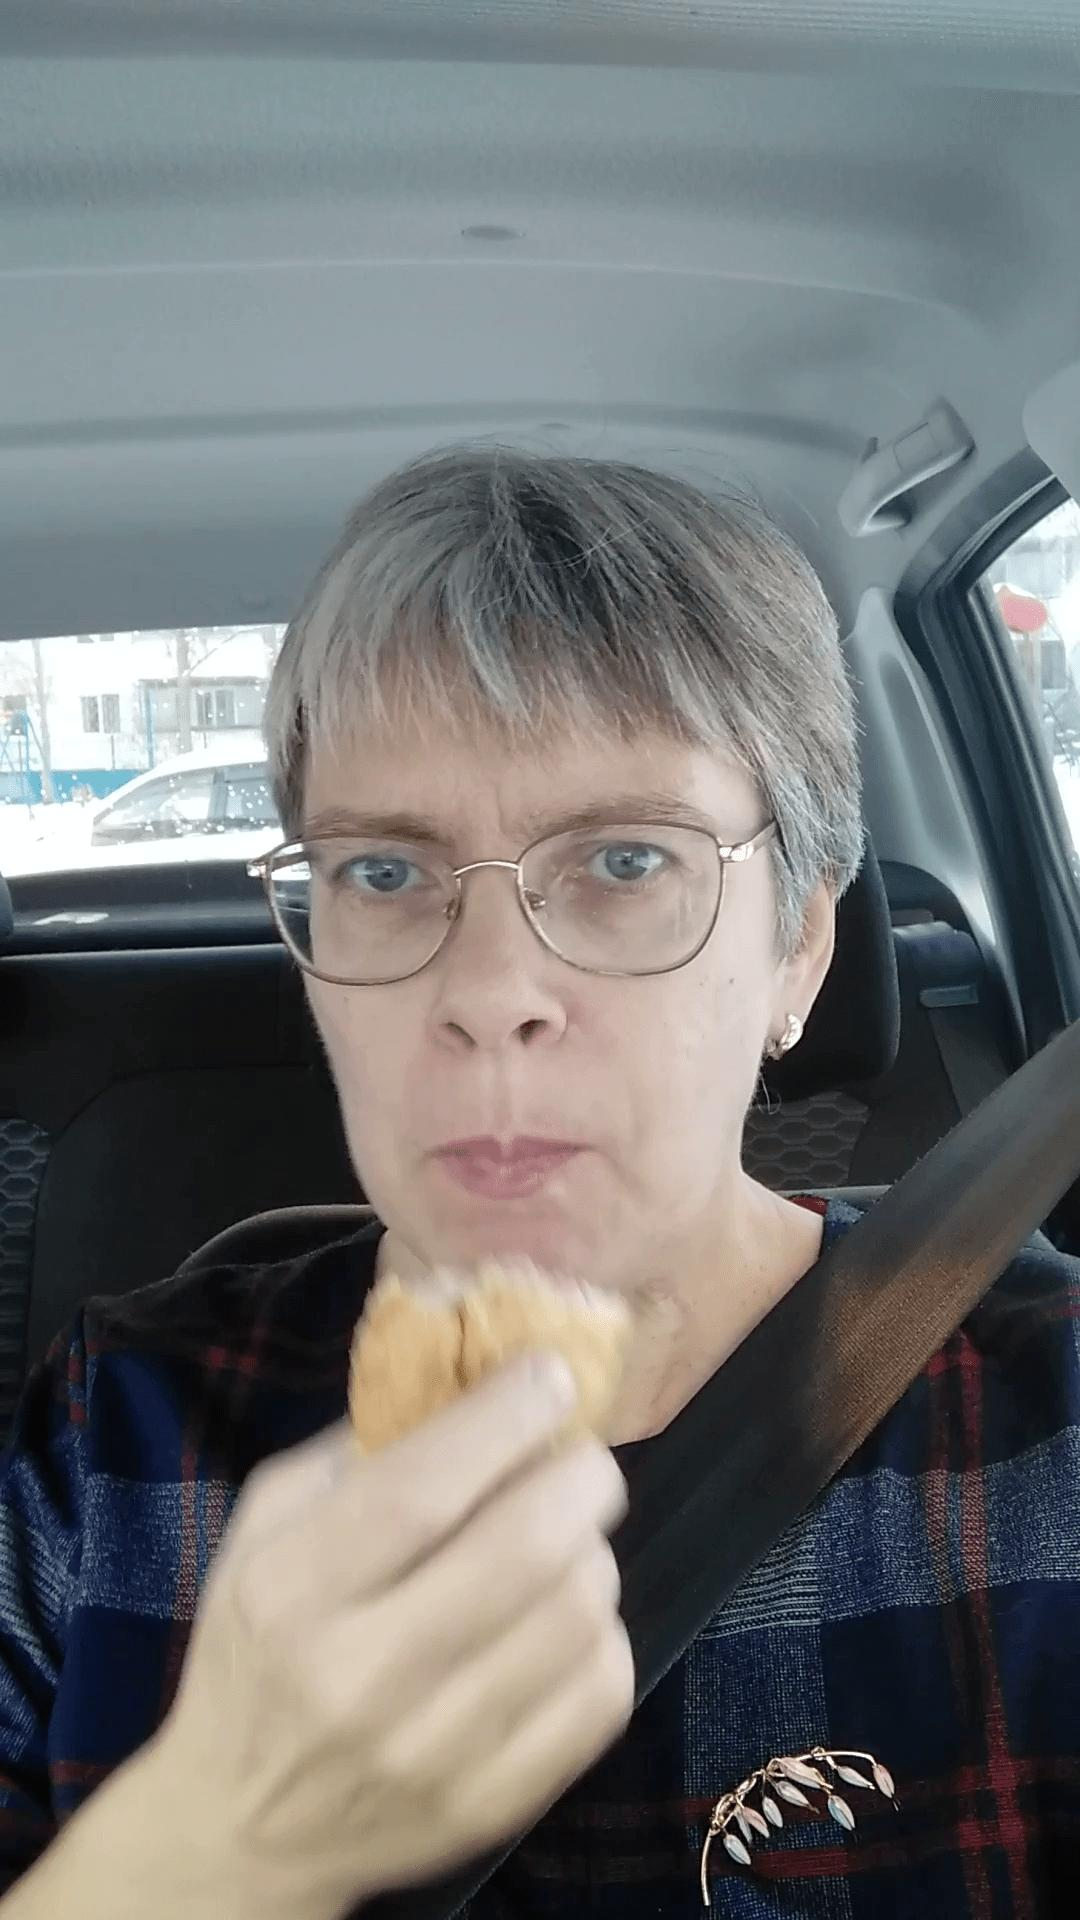Eating: (327, 1221, 633, 1520)
